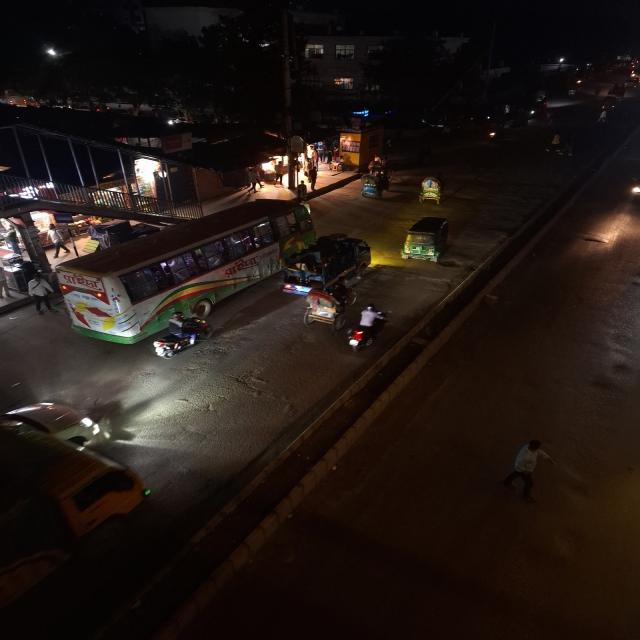bus: (52, 198, 316, 343)
cng: (400, 216, 451, 264)
motorcycle: (151, 312, 214, 360), (346, 303, 392, 355), (624, 173, 640, 205)
pedestrian: (498, 436, 557, 505), (25, 272, 56, 315), (0, 260, 12, 304)
pickup_van: (281, 232, 372, 294)
rickshaw: (299, 279, 360, 332), (355, 168, 399, 200), (414, 172, 451, 206)
